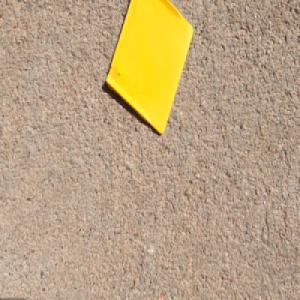PlasticPart: (104, 0, 194, 136)
